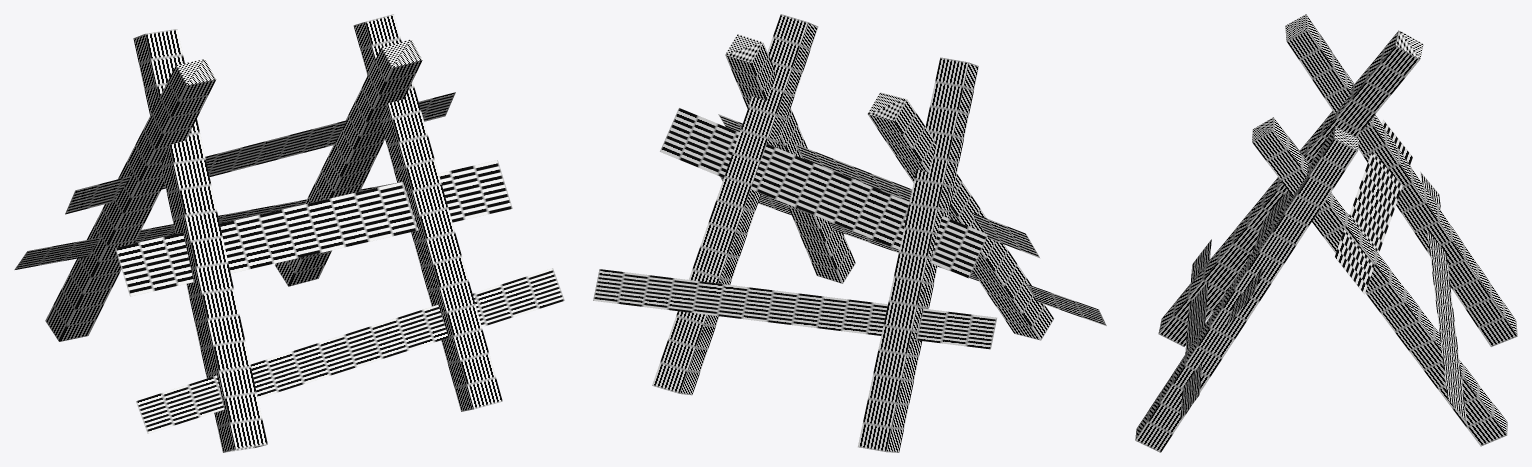
The model's file is stwali2.dae.
The picture shows the model from 3 angles, left to right: view 1: azimuth 30°, elevation 25°; view 2: azimuth 150°, elevation 25°; view 3: azimuth 270°, elevation 25°; orthographic projection. The views are drawn at different scales.
Parts seen in each view (by area): view 1: fence01; view 2: fence01; view 3: fence01.
Boxes of the visible parts, left/top/right/bottom form: fence01: left=14, top=14, right=564, bottom=452; fence01: left=593, top=14, right=1106, bottom=452; fence01: left=1135, top=14, right=1517, bottom=452.
Size of the model in its own units: 1.32 by 1.1 by 1.04.
1 material, 1 textured.
